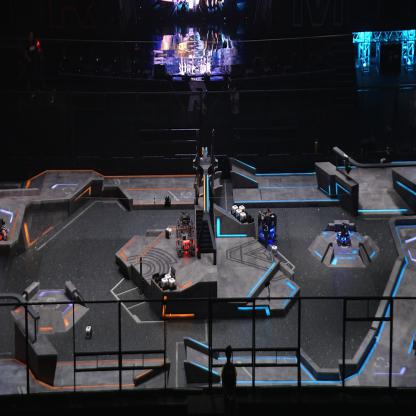car: (176, 211, 198, 257), (258, 208, 278, 243), (336, 221, 351, 247), (0, 214, 9, 240)
